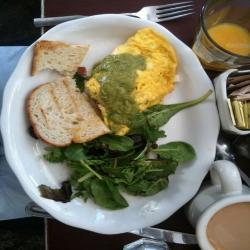bread: (24, 38, 113, 144)
omelette: (87, 27, 185, 133)
salad: (48, 131, 189, 206)
